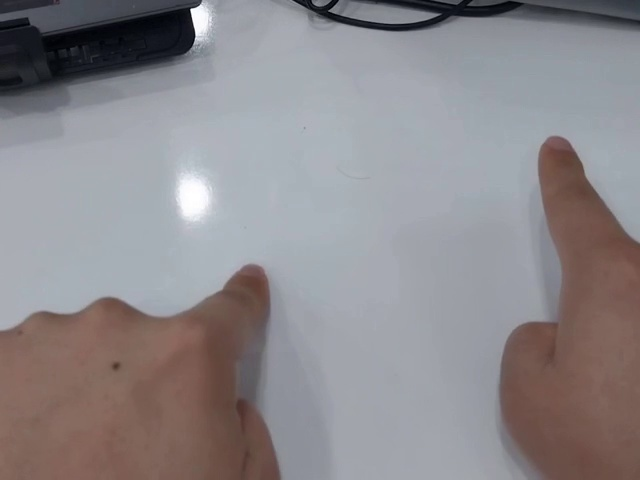fingers: (221, 262, 269, 320), (537, 135, 586, 183)
